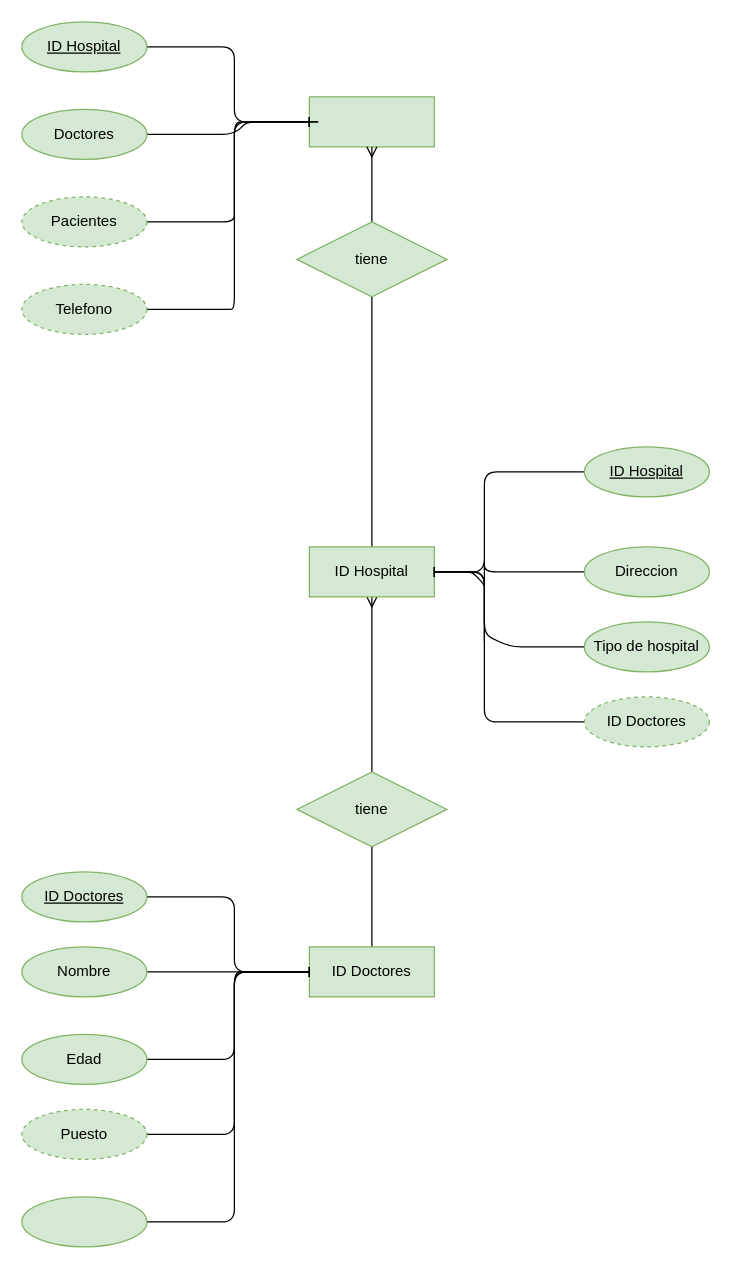
Some shapes in this 731 by 1269 pixel diagram are drawn without their labels. The shapes that lost their labels are listed below. From the top down, each one's centre as x and y in pixels, then its label:
At point 371,121: "Hospital".
At point 84,1221: "ID Certificados".
